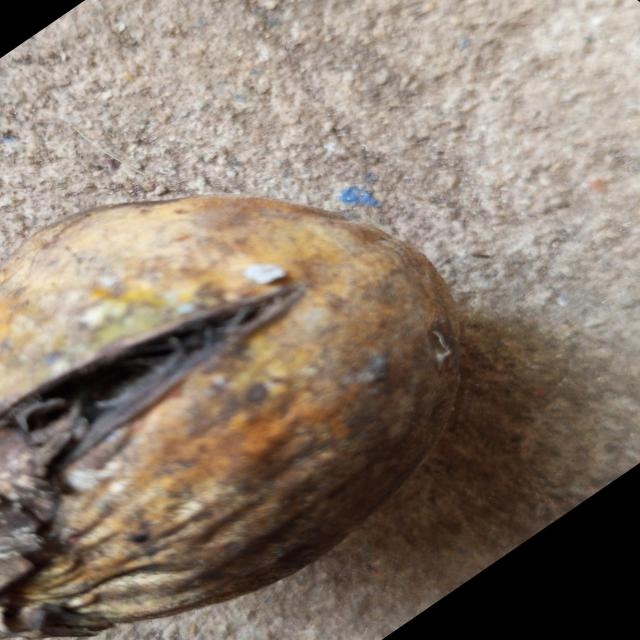damaged: (0, 195, 467, 640)
